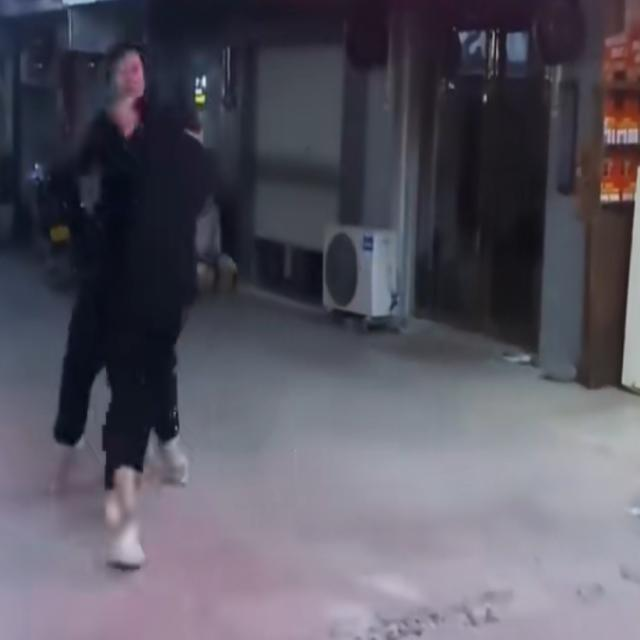fight: (64, 36, 200, 570)
